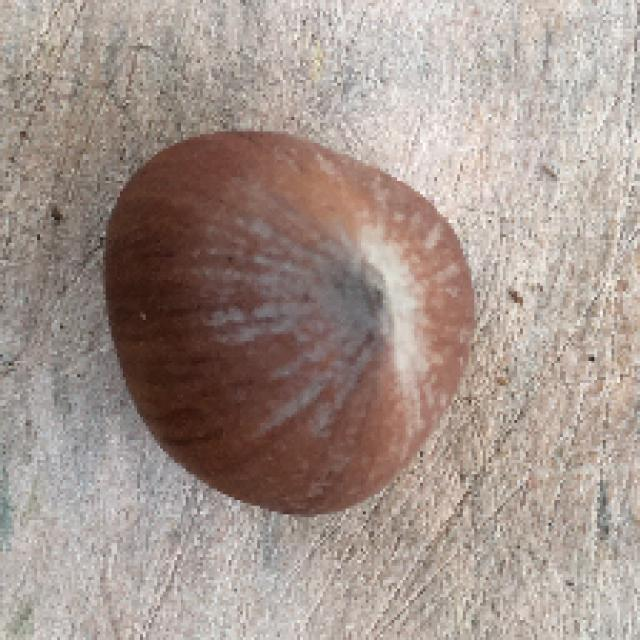qualityHazelnut: (93, 125, 491, 523)
